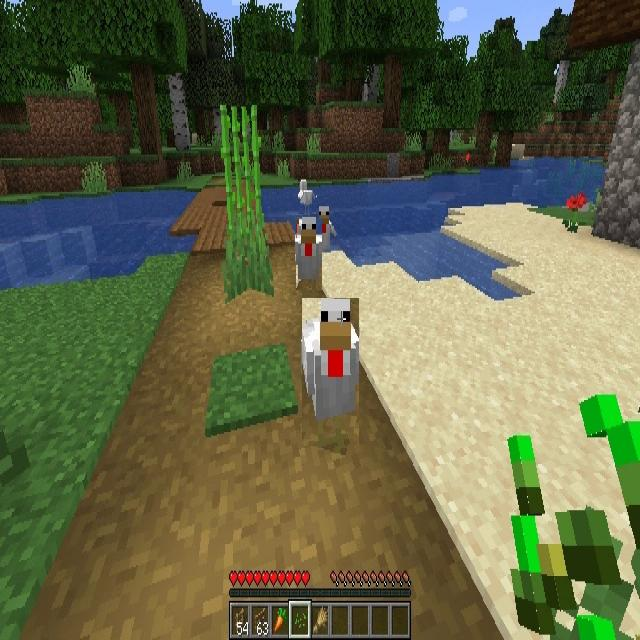duck: (302, 298, 359, 446), (296, 218, 322, 290), (318, 206, 335, 251), (298, 178, 316, 214)
